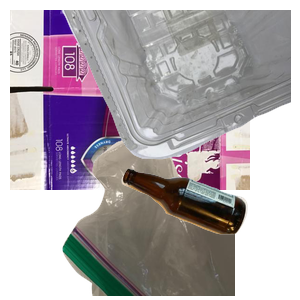cardboard: (10, 10, 250, 190)
glass: (119, 166, 300, 300)
plastic: (60, 10, 300, 162)
trash: (60, 120, 300, 300)
